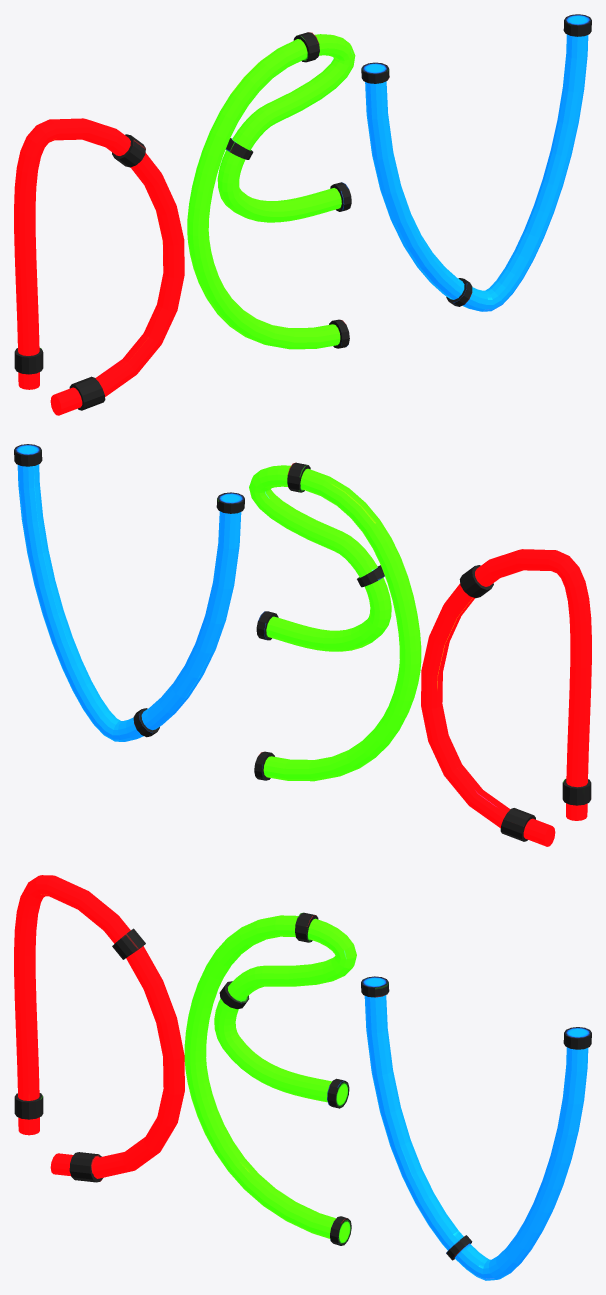
The model's file is NeonDEV.fbx.
3 renders of one model, top to bottom at view 1: azimuth 30°, elevation 25°; view 2: azimuth 150°, elevation 25°; view 3: azimuth 330°, elevation 25°, orthographic.
Parts seen in each view (by area): view 1: NeonDev; view 2: NeonDev; view 3: NeonDev.
Boxes of the visible parts, <box> form: NeonDev: <box>14,14,591,415</box>; NeonDev: <box>14,444,591,846</box>; NeonDev: <box>14,875,591,1280</box>.
Bounding box in the file's own units: 84.58 × 45.25 × 4.39.
